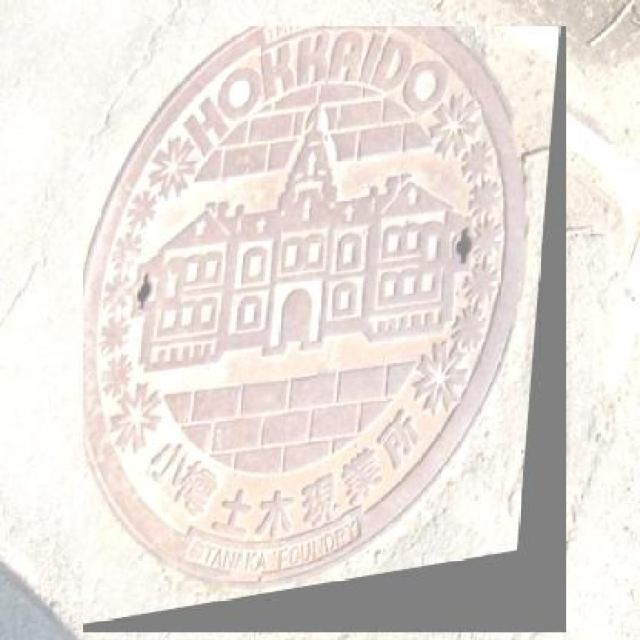Manhole: (83, 27, 566, 632)
